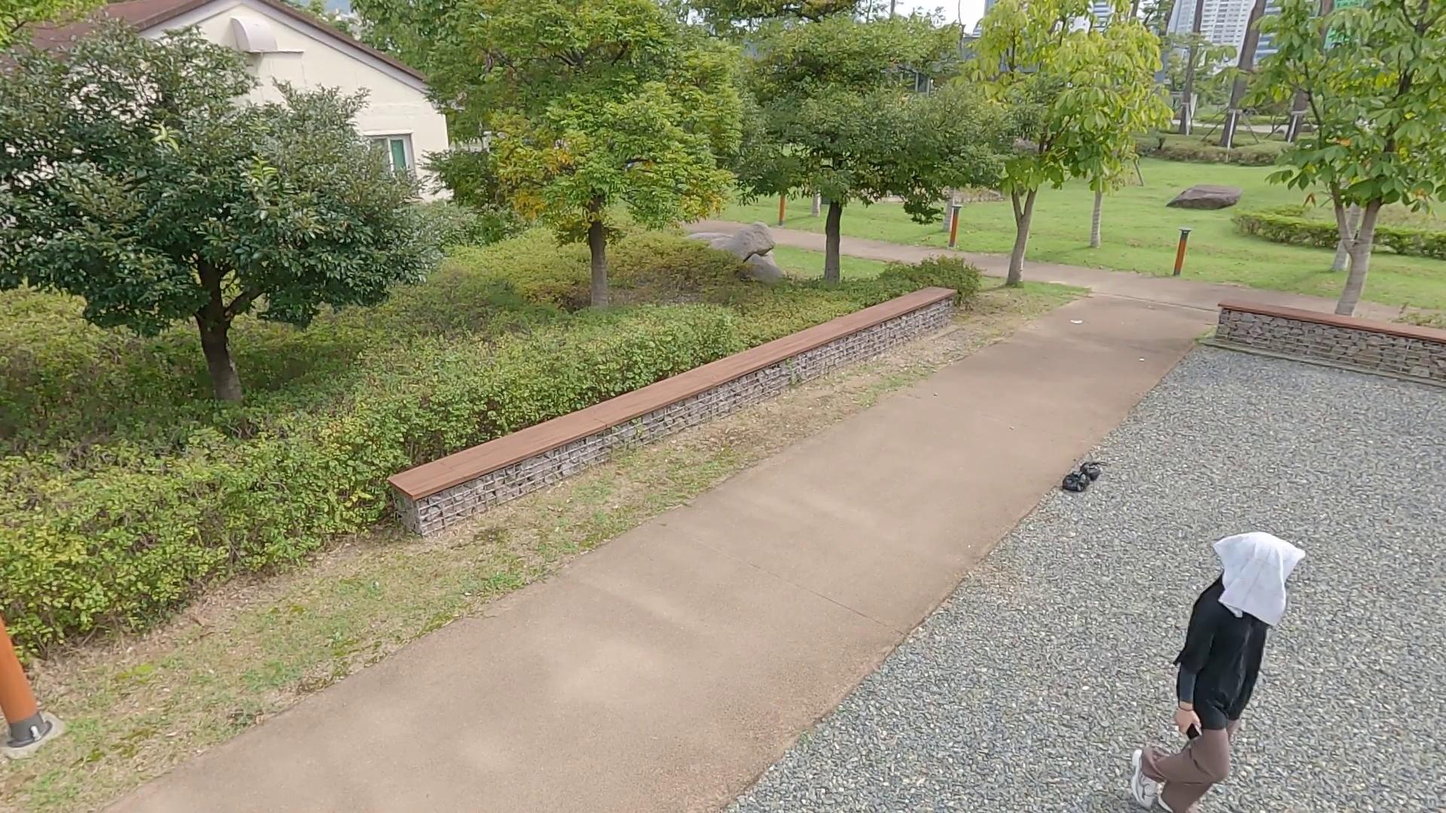person: (1118, 529, 1307, 813)
trash: (1065, 467, 1090, 498), (1078, 459, 1104, 486)
